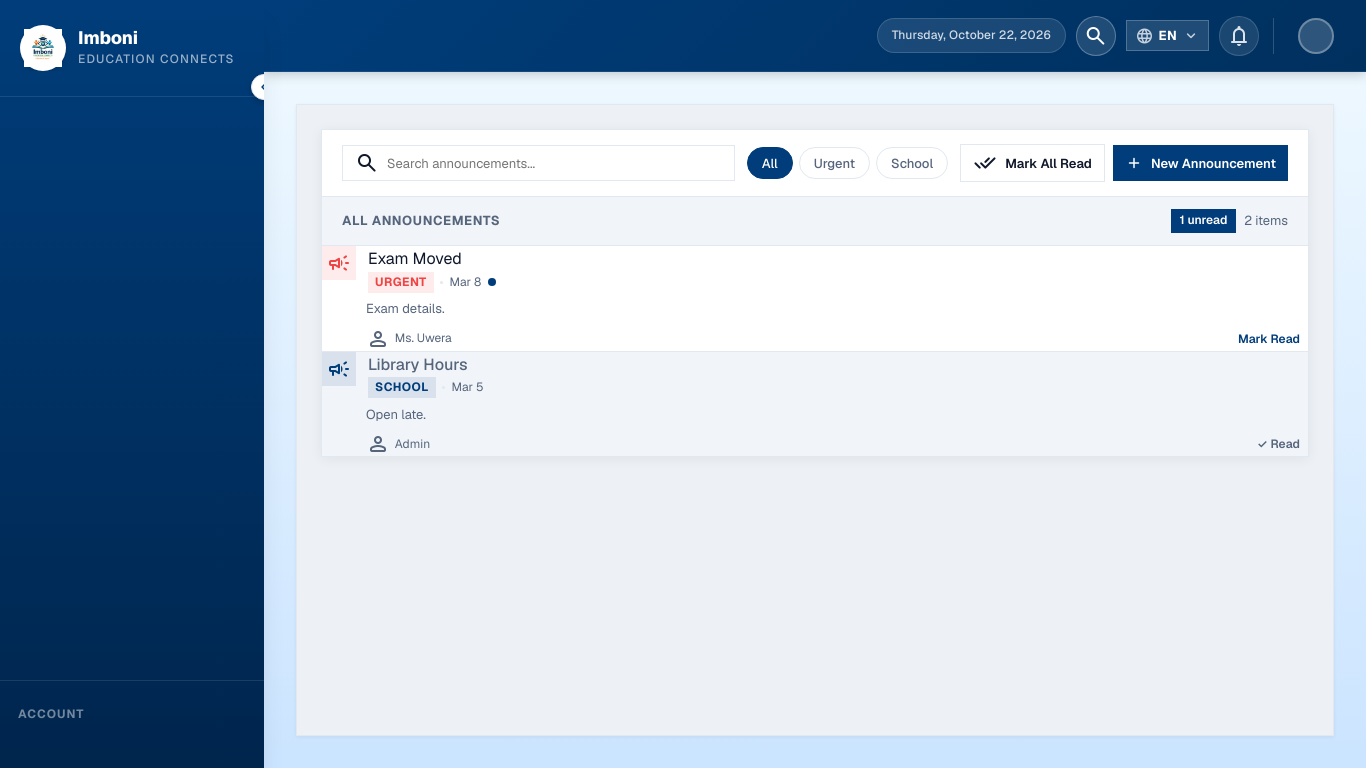
Test case: AnnouncementFeed › saves a draft without publishing it as unread-active
Click the button "New Announcement" at (1200, 163), box [1113,145,1288,181]
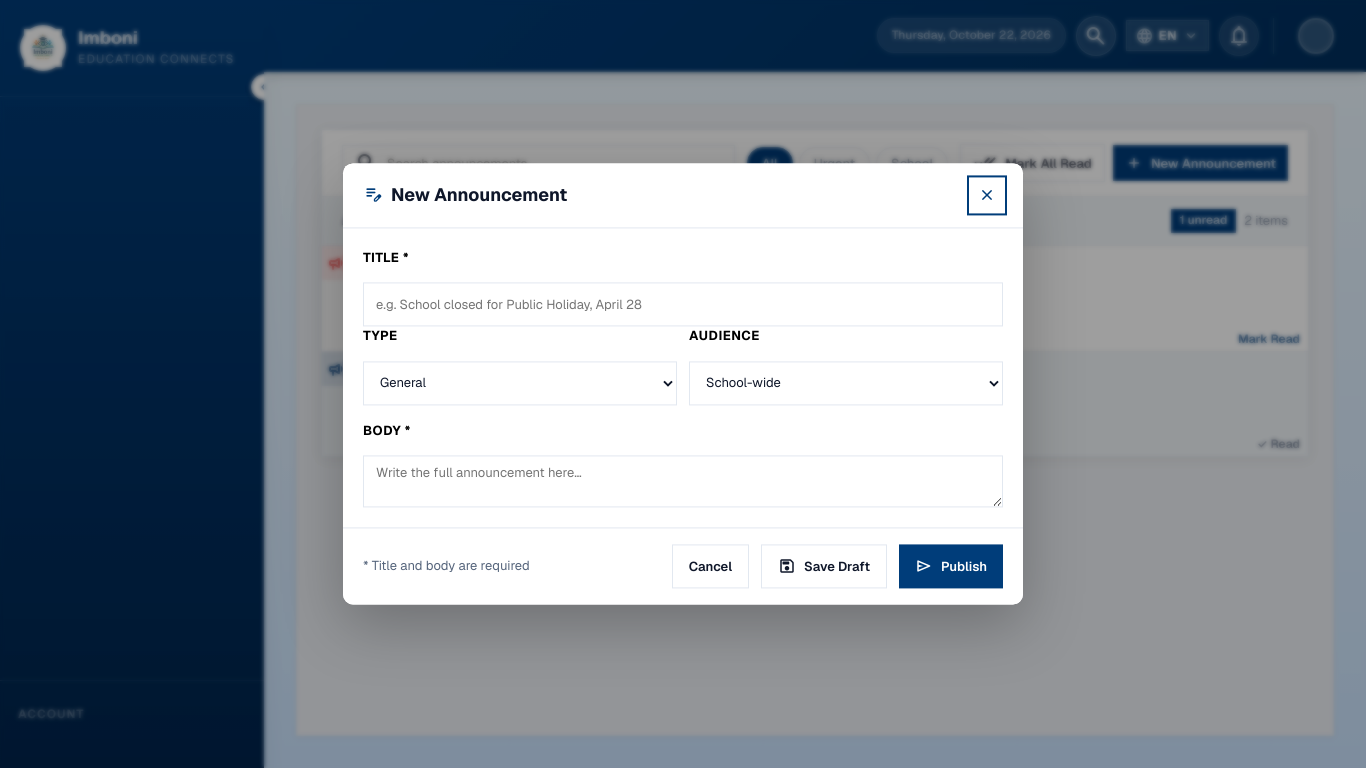
Type "Draft Notice" into the field with placeholder "e.g. School closed for Public Holiday, April 28" at (683, 305), box [363,283,1003,327]
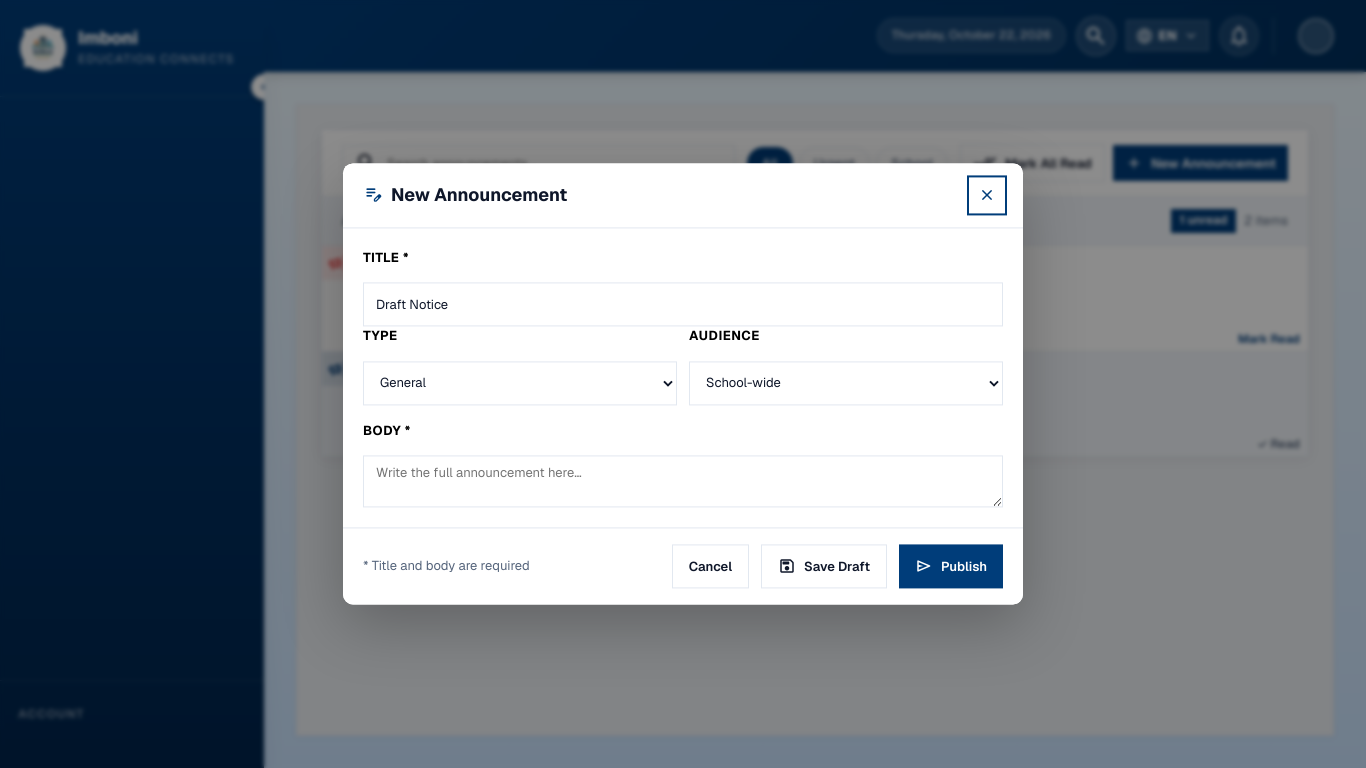
Type "Draft body." into the text box with placeholder "Write the full announcement here…" at (683, 482), box [363,456,1003,508]
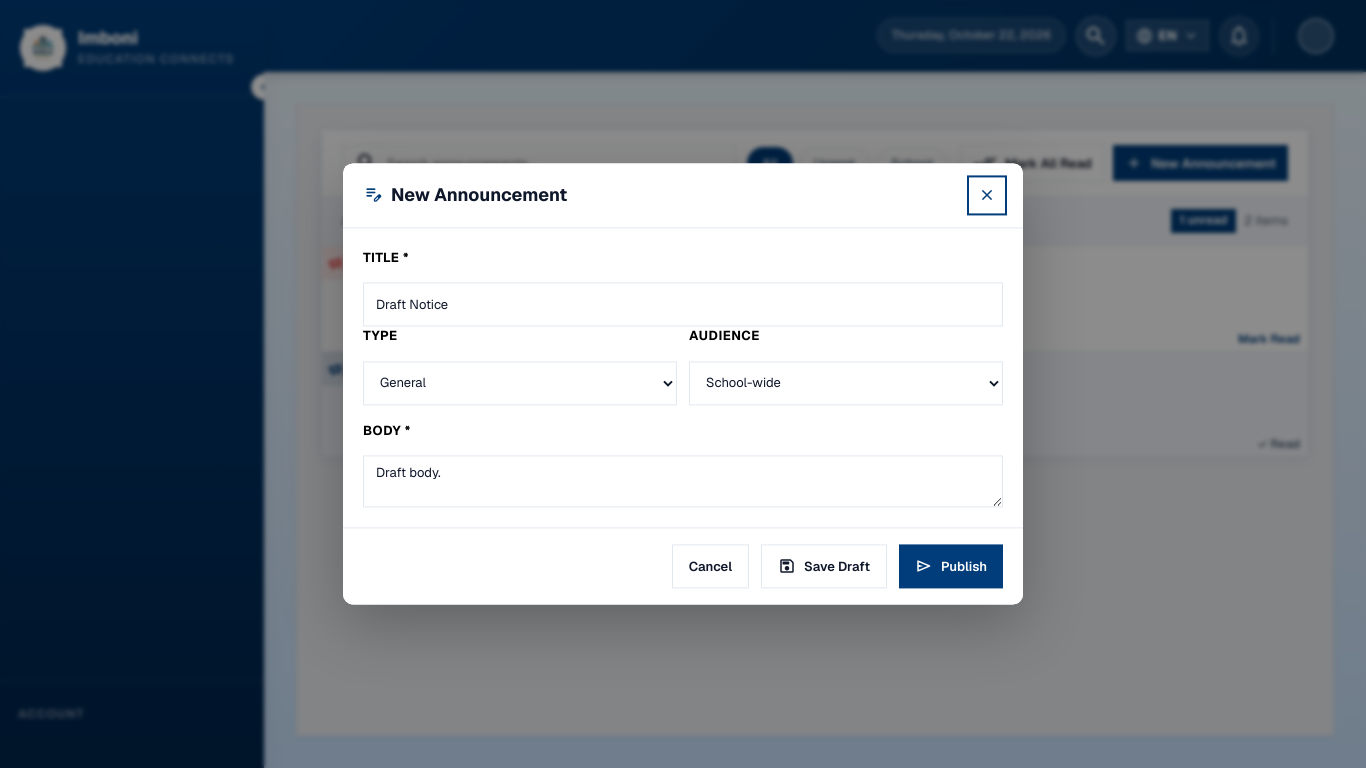
Click the button "Save Draft" at (824, 567), box [761,545,887,589]
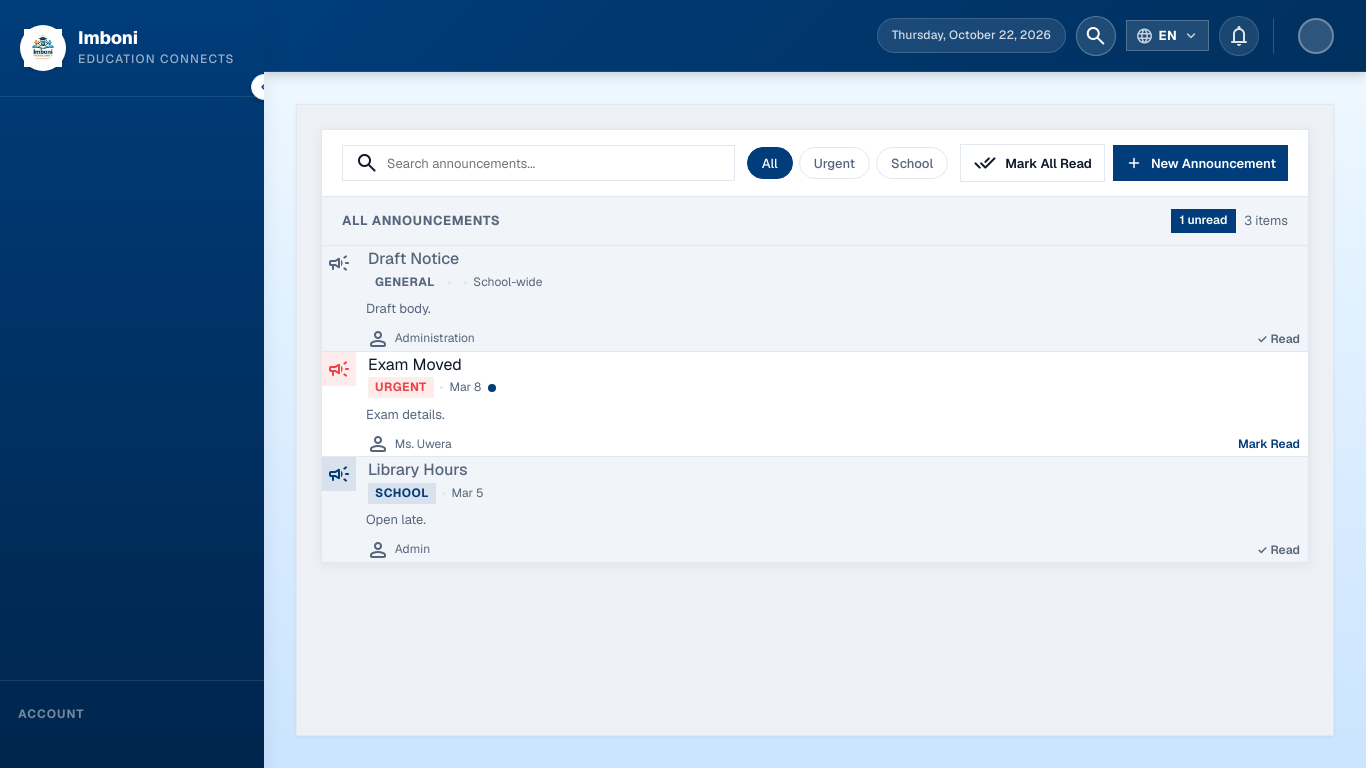
Expected: the text "Draft Notice" is shown, [368,248,459,269]
